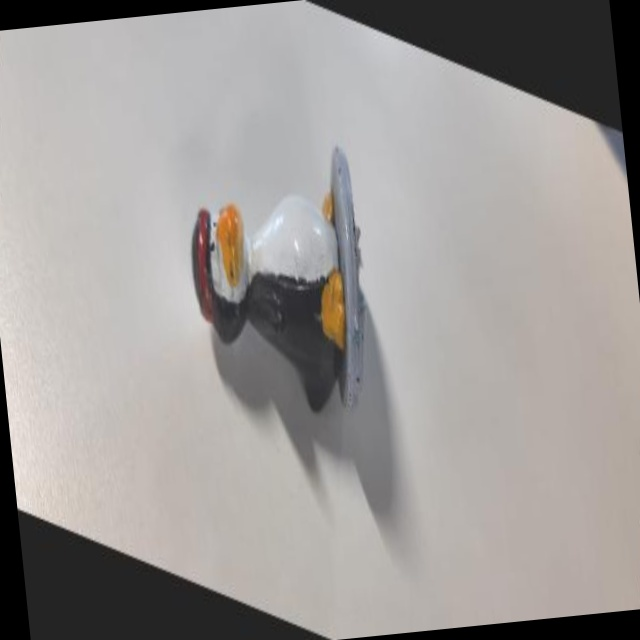Penguin: (154, 48, 401, 479)
